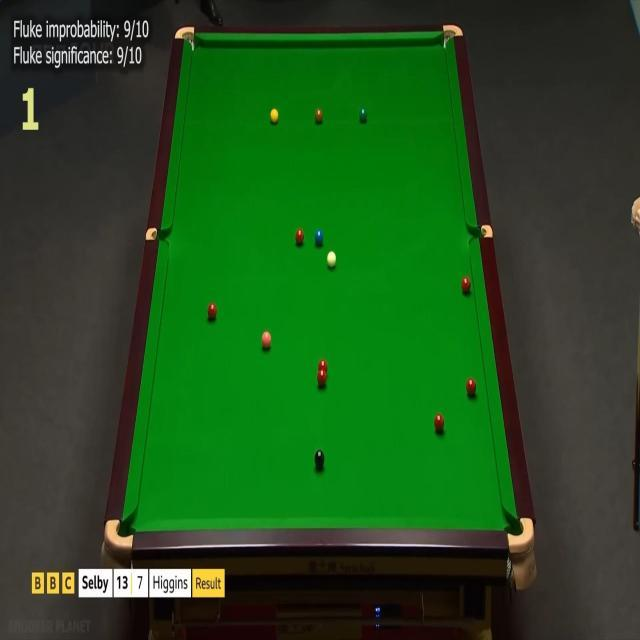Ball: (466, 378, 476, 398), (314, 450, 325, 468), (207, 302, 217, 320), (326, 250, 336, 268), (434, 414, 444, 431), (461, 276, 471, 293), (317, 369, 327, 386), (261, 332, 271, 348), (270, 108, 279, 124), (318, 359, 328, 373), (295, 229, 304, 244), (359, 108, 367, 122), (315, 230, 323, 244), (314, 109, 322, 122)
